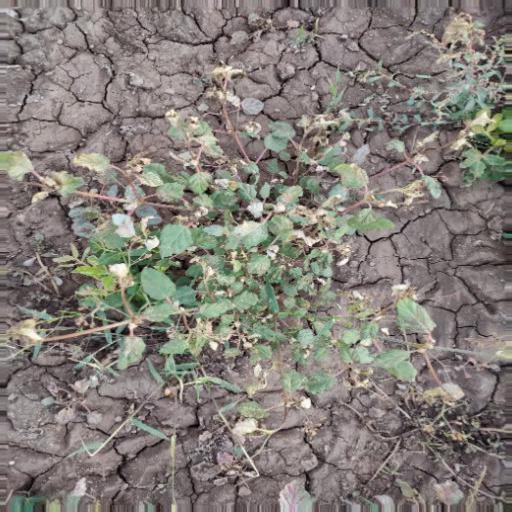weed: (28, 107, 404, 339)
